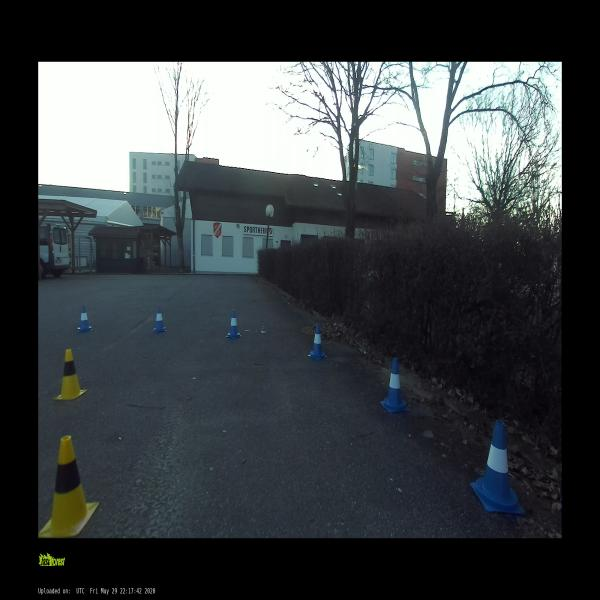blue_cone: (471, 420, 524, 515), (380, 357, 409, 413), (308, 324, 327, 360), (226, 309, 242, 340), (152, 306, 167, 334), (77, 305, 92, 333)
yellow_cone: (38, 433, 99, 538), (54, 350, 86, 400)
